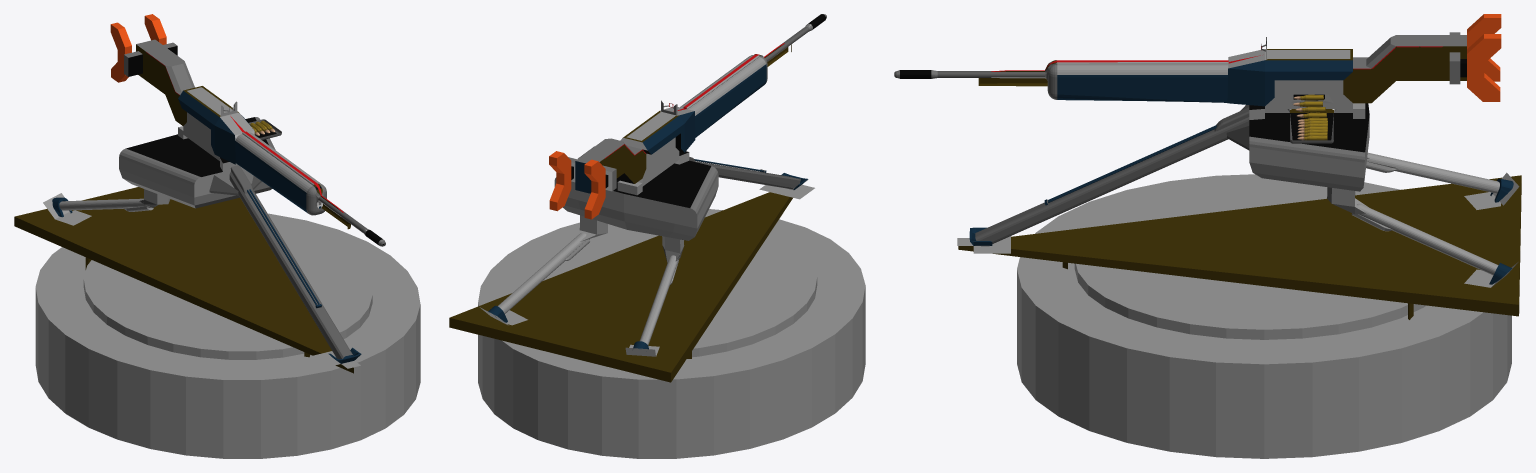
File: SniperTower.fbx
The picture shows the model from 3 angles, left to right: view 1: azimuth 30°, elevation 25°; view 2: azimuth 150°, elevation 25°; view 3: azimuth 270°, elevation 25°; orthographic projection. The views are drawn at different scales.
Parts seen in each view (by area): view 1: Tower, Holder, Body, FrontFoot, BackFoot; view 2: Tower, Holder, Body, BackFoot, FrontFoot; view 3: Tower, Holder, Body, FrontFoot, BackFoot, Bullet.
Part boxes in pixels (<box>): Tower: <box>35,213,420,458</box>; Holder: <box>14,187,353,373</box>; Body: <box>110,14,385,246</box>; FrontFoot: <box>209,165,367,368</box>; BackFoot: <box>43,193,153,225</box>; Tower: <box>478,209,865,458</box>; Holder: <box>449,192,792,382</box>; Body: <box>549,14,826,262</box>; BackFoot: <box>479,232,679,356</box>; FrontFoot: <box>689,157,814,199</box>; Tower: <box>1017,174,1511,458</box>; Holder: <box>958,175,1521,319</box>; Body: <box>894,14,1501,214</box>; FrontFoot: <box>957,105,1249,253</box>; BackFoot: <box>1351,152,1519,287</box>; Bullet: <box>1293,94,1327,140</box>.
Bounding box in the file's own units: 462 × 384 × 644.
